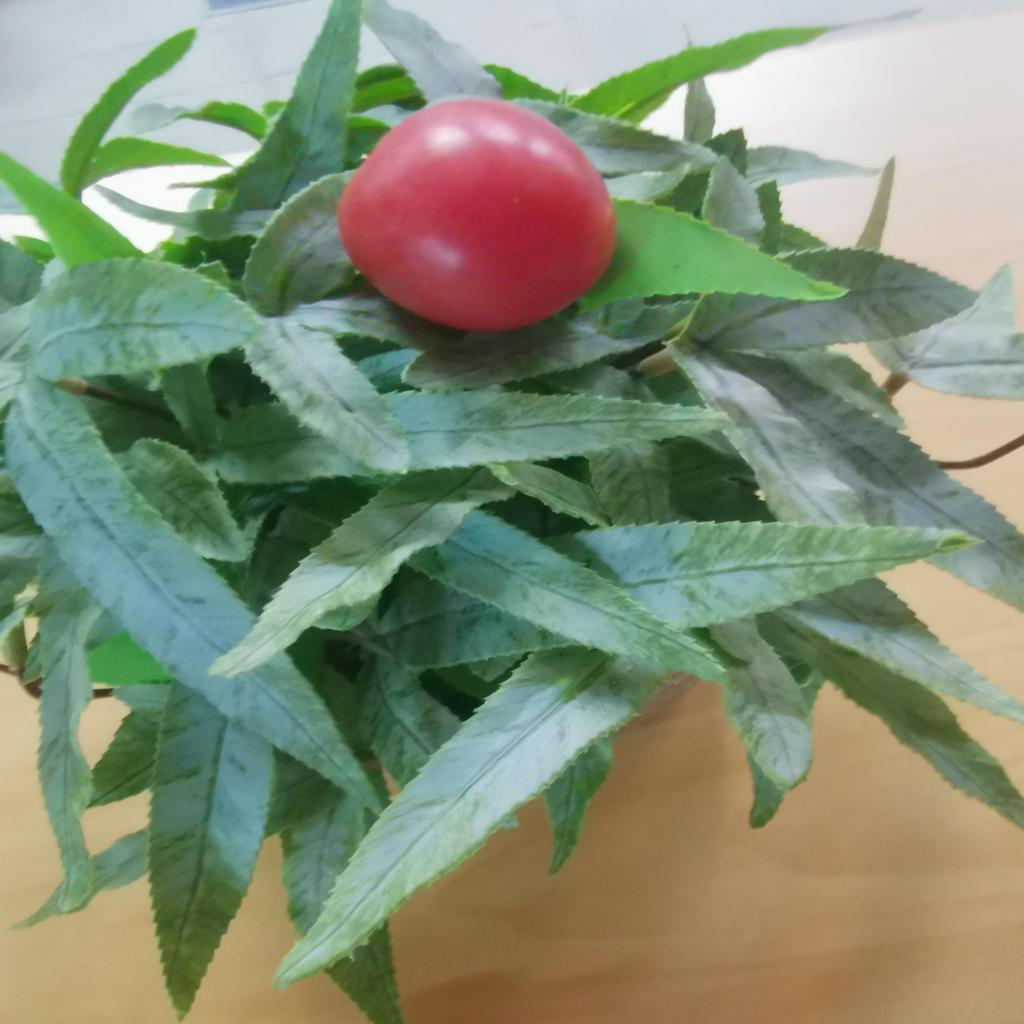tomato: (338, 109, 632, 322)
